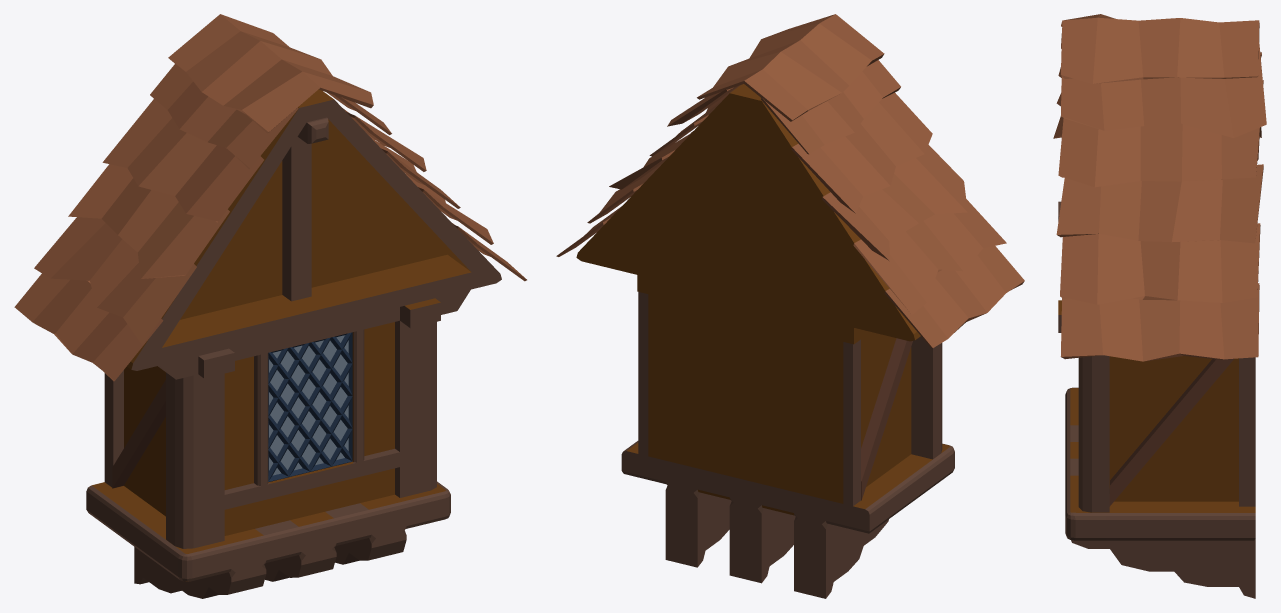
The model's file is kucuk_pencere.fbx.
3 views of the same model, side by side, from view 1: azimuth 30°, elevation 25°; view 2: azimuth 150°, elevation 25°; view 3: azimuth 270°, elevation 25° (orthographic). The views are drawn at different scales.
Visible parts, largest first — view 1: Cube.018; view 2: Cube.018; view 3: Cube.018.
Part boxes in pixels (<box>): Cube.018: <box>14,14,526,598</box>; Cube.018: <box>556,14,1024,598</box>; Cube.018: <box>1053,14,1266,598</box>.
Size of the model in its own units: 3.88 by 4.92 by 1.77.
